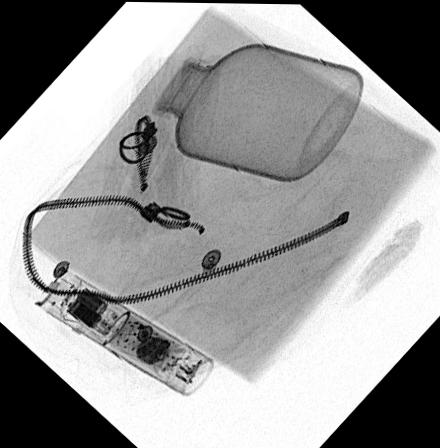Baton: (32, 264, 213, 395)
